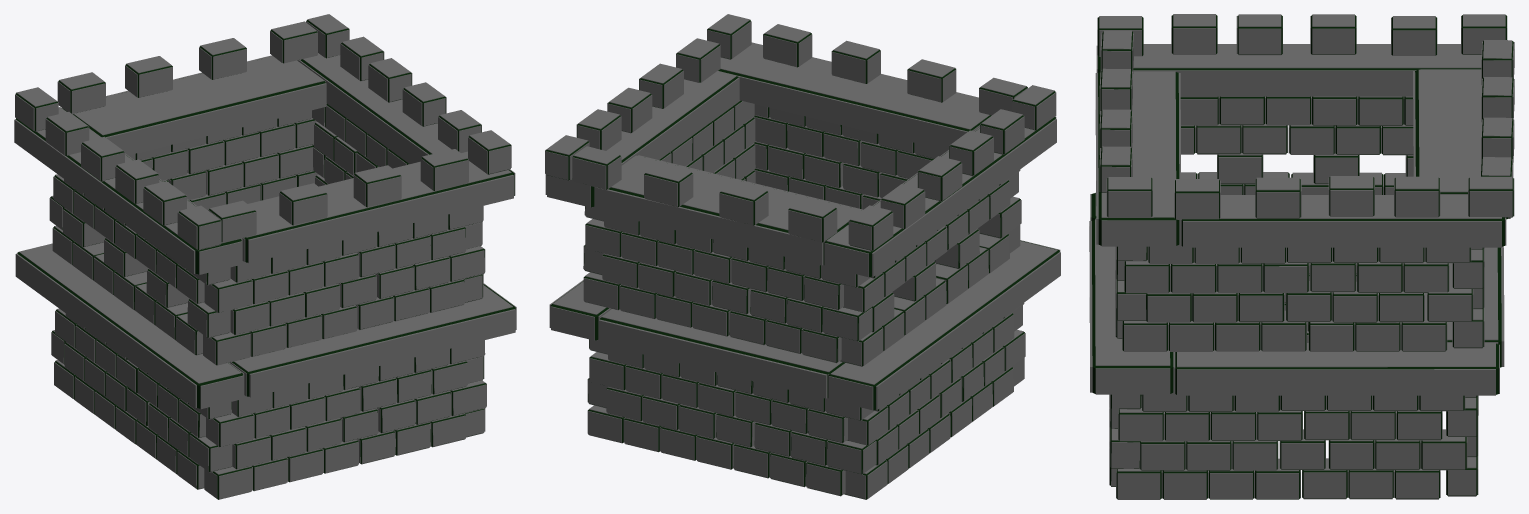
The model's file is Z_TallTower.fbx.
The picture shows the model from 3 angles, left to right: view 1: azimuth 30°, elevation 25°; view 2: azimuth 150°, elevation 25°; view 3: azimuth 270°, elevation 25°; orthographic projection. The views are drawn at different scales.
Visible parts, largest first — view 1: TowerTurret.001; view 2: TowerTurret.001; view 3: TowerTurret.001.
Boxes of the visible parts, x1,y1,x2,y2 form: TowerTurret.001: (14,14,516,499); TowerTurret.001: (545,14,1060,499); TowerTurret.001: (1089,14,1514,499).
Bounding box in the file's own units: 27.5 × 23.27 × 27.69.
